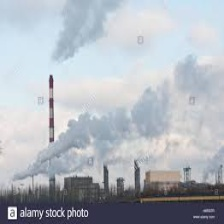smoke: (11, 114, 164, 181), (51, 1, 106, 69)
